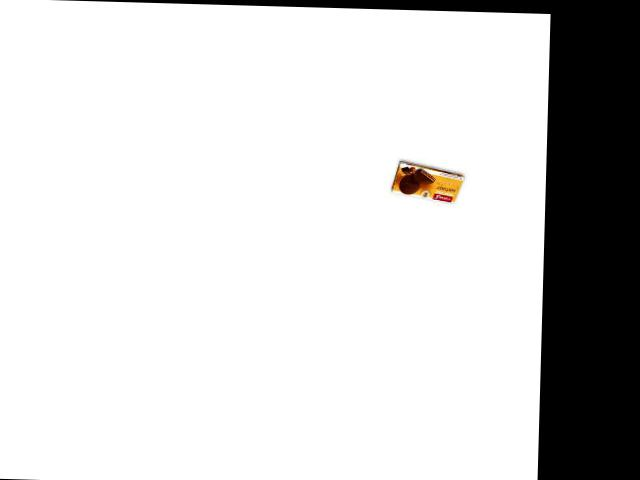chocolate: (386, 167, 475, 204)
